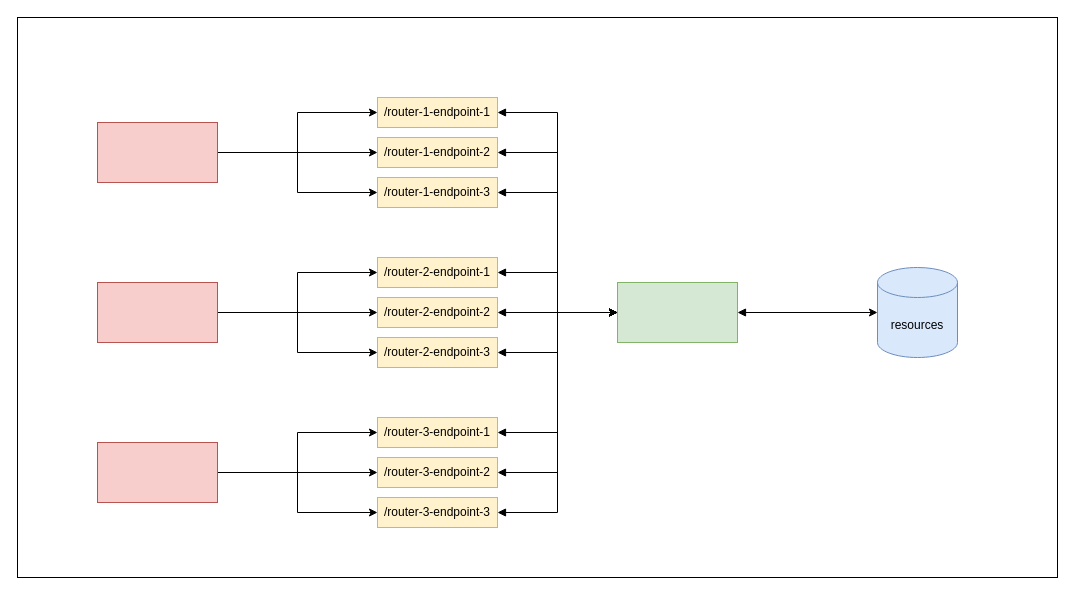
The diagram is 1075 pixels wide and 595 high, and some of its shapes have lost their labels. Each missing label, with the centre of its shape:
"/router-1" belongs at (x=157, y=152).
"/router-2" belongs at (x=157, y=312).
"/router-3" belongs at (x=157, y=472).
"middleware" belongs at (x=677, y=312).
